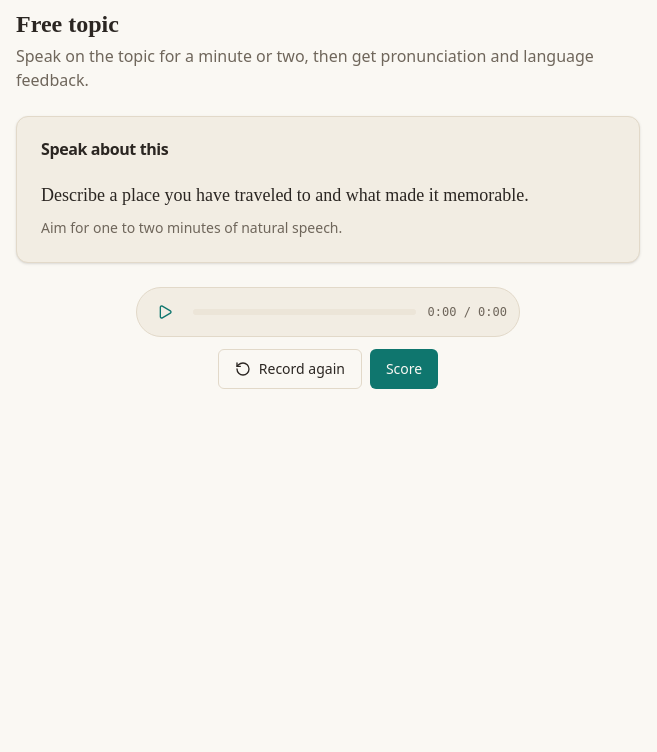
it: FreeTopic › should show pronunciation scores, the critique, and the transcript after scoring
Click the button "Score" at (404, 369), box [370, 349, 438, 389]
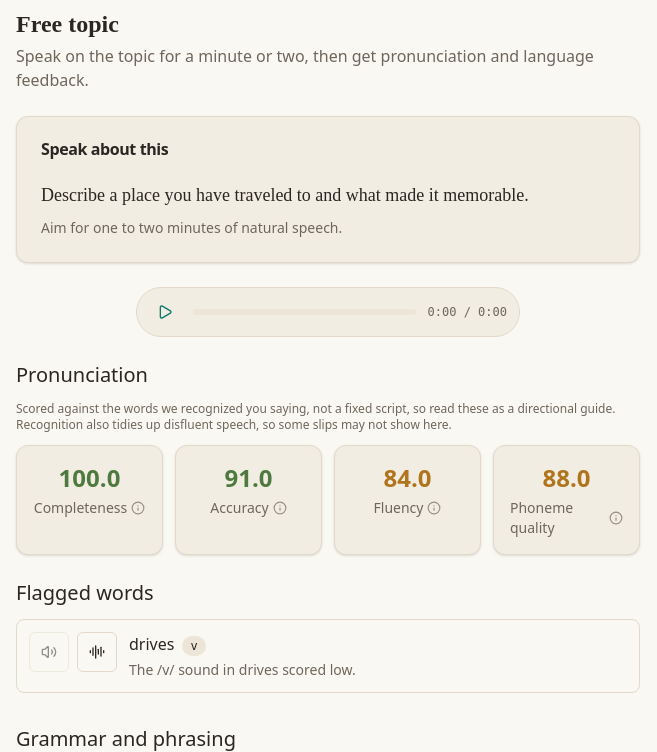
Result: the heading "Grammar and phrasing" is shown at [16, 725, 236, 751]
Result: the text "drives" is shown at [129, 632, 174, 656]
